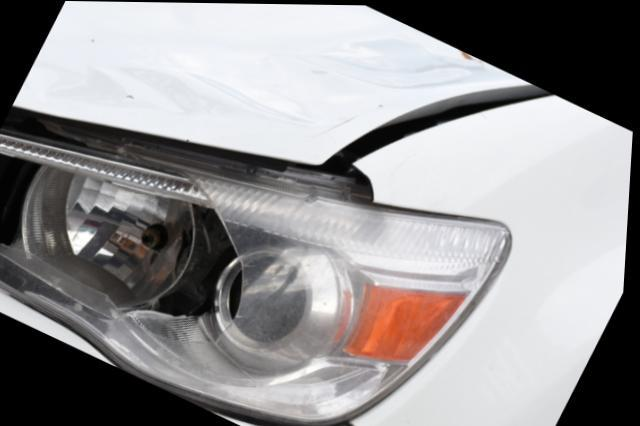dent: (30, 26, 508, 132)
lamp broken: (0, 110, 512, 426)
